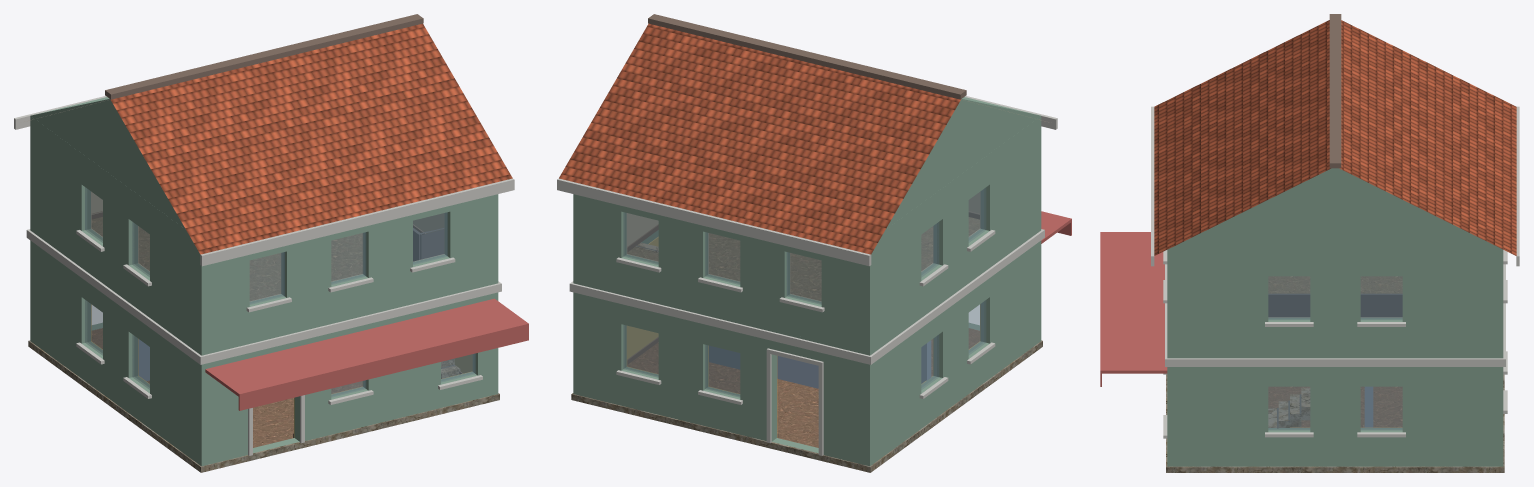
The model's file is cove-house-green.glass-v3.lod0.glb.
3 renders of one model, left to right at view 1: azimuth 30°, elevation 25°; view 2: azimuth 150°, elevation 25°; view 3: azimuth 270°, elevation 25°, orthographic. The views are drawn at different scales.
Visible parts, largest first — view 1: cove-house-green; view 2: cove-house-green; view 3: cove-house-green.
Boxes of the visible parts, x1,y1,x2,y2 form: cove-house-green: [14, 14, 528, 472]; cove-house-green: [557, 14, 1071, 472]; cove-house-green: [1100, 14, 1519, 472].
Bounding box in the file's own units: 8.42 × 8.23 × 9.99.
5 materials, 3 textured.
